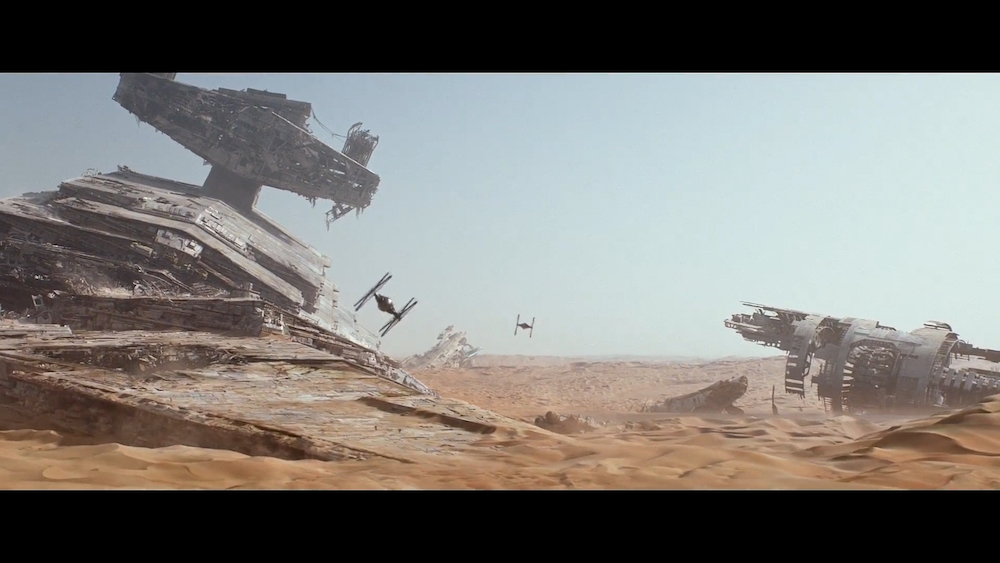Tie Fighter: (354, 273, 419, 338), (515, 315, 536, 338)
